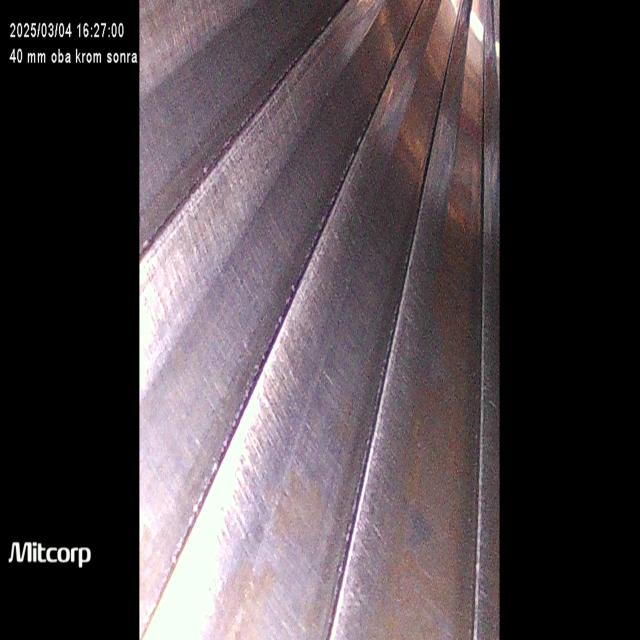hata_8.2: (315, 167, 437, 638)
